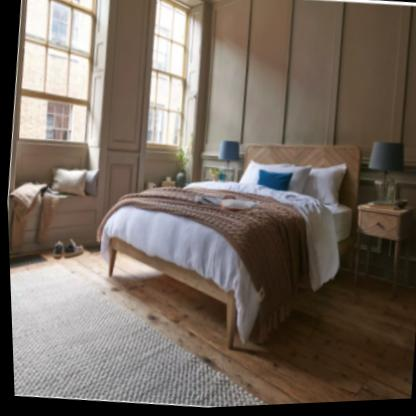Bed: (79, 108, 371, 372)
Nightstand: (350, 206, 412, 302)
Window: (15, 0, 98, 143), (143, 0, 190, 146)
Wooden floor: (62, 253, 414, 407)
